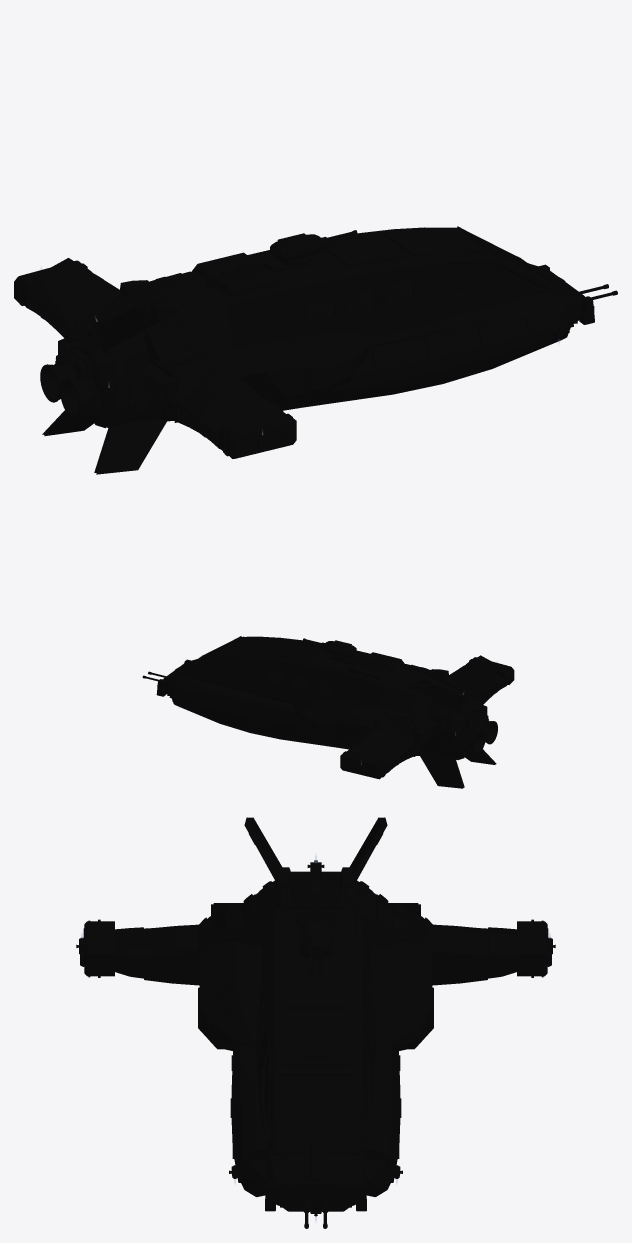
File: rcs_pitch_pos_occ.glb
3 views of the same model, one above another, from view 1: azimuth 30°, elevation 25°; view 2: azimuth 150°, elevation 25°; view 3: azimuth 270°, elevation 25° (orthographic). The views are drawn at different scales.
Visible parts, largest first — view 1: HullOccluder; view 2: HullOccluder; view 3: HullOccluder.
Boxes of the visible parts, x1,y1,x2,y2 form: HullOccluder: (14,226,617,474); HullOccluder: (142,636,514,788); HullOccluder: (76,817,555,1228).
Size of the model in its own units: 18.25 by 5.33 by 12.99.
3 materials, 2 textured.
